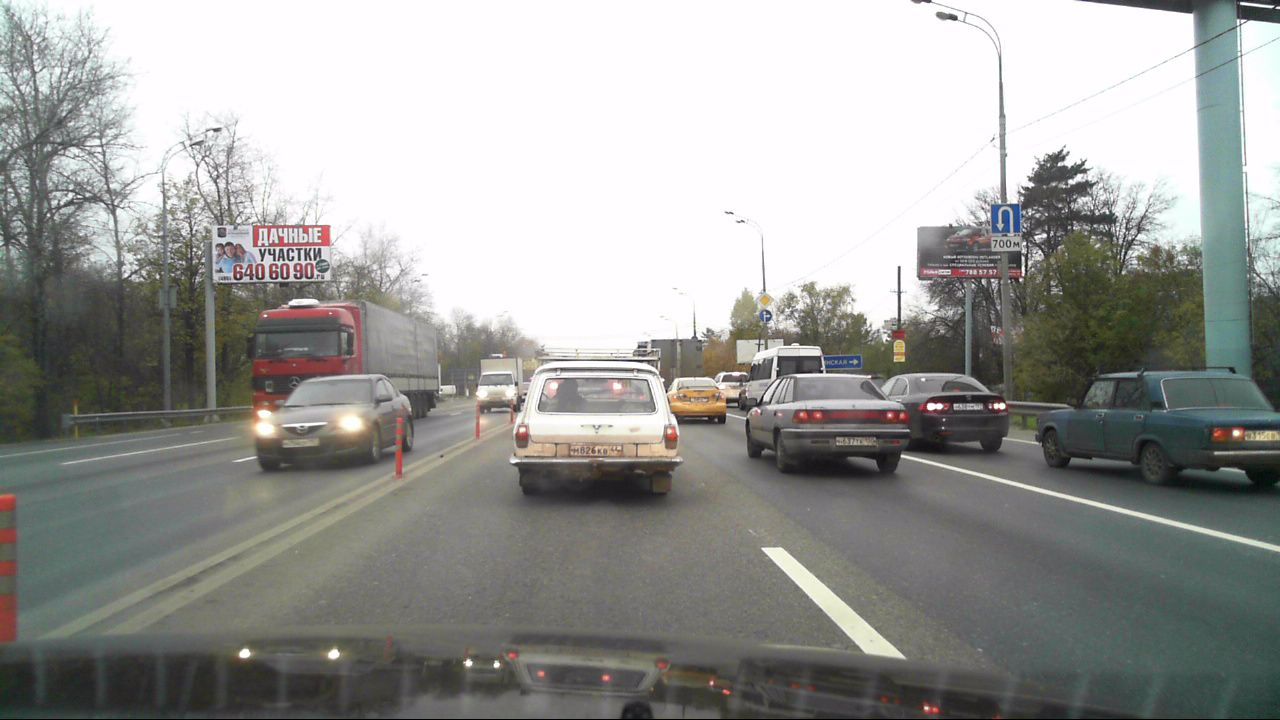U-turn: (991, 205, 1020, 234)
